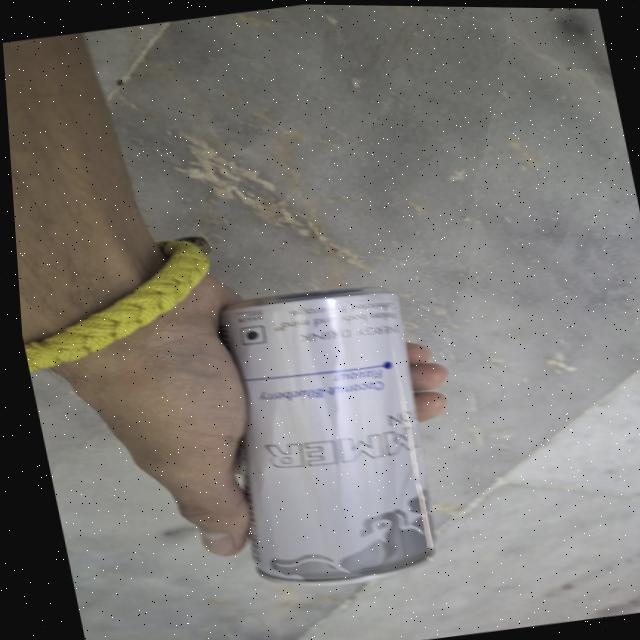Redbull Summer Edition: (191, 276, 462, 590)
